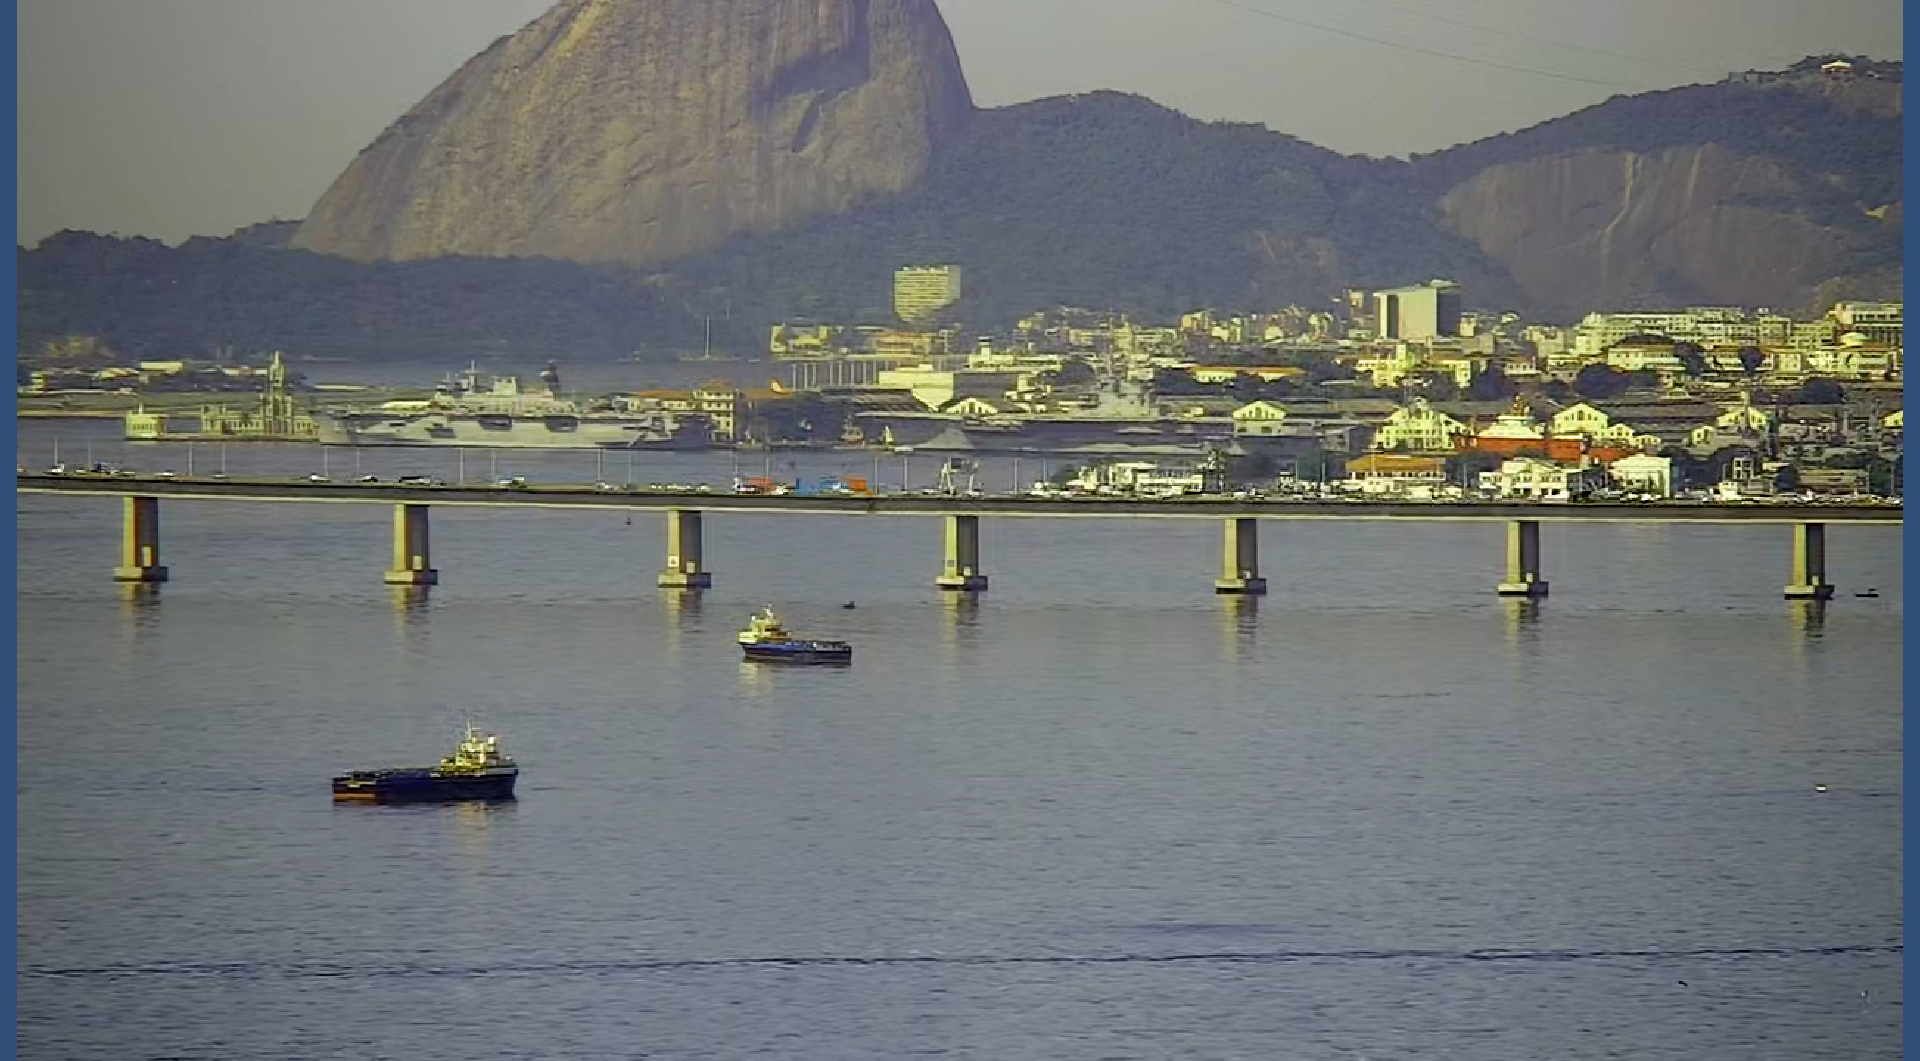Ship0: (856, 359, 1381, 460), (300, 353, 724, 455)
Ship5: (323, 720, 526, 809), (733, 600, 856, 669)
